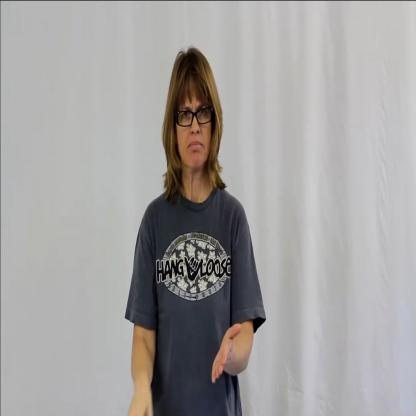Expensive: (127, 44, 257, 416)
